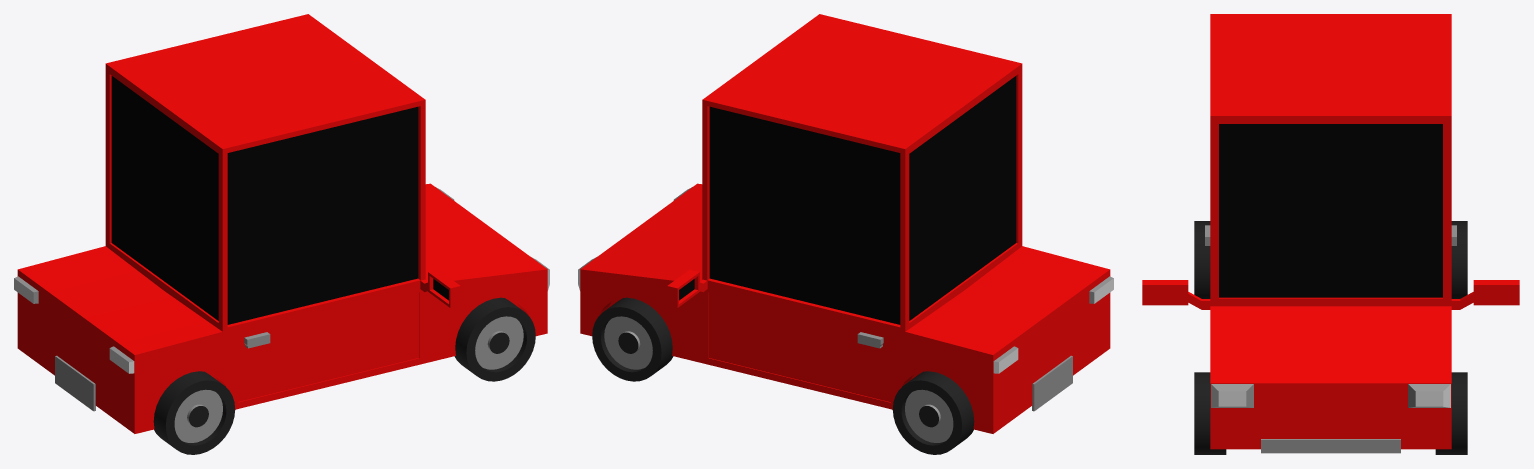
File: carsimplecubic1.fbx
3 renders of one model, left to right at view 1: azimuth 30°, elevation 25°; view 2: azimuth 150°, elevation 25°; view 3: azimuth 270°, elevation 25°, orthographic. The views are drawn at different scales.
Visible parts, largest first — view 1: carsimplecubic1; view 2: carsimplecubic1; view 3: carsimplecubic1.
Part boxes in pixels (x1=…): carsimplecubic1: x1=14, y1=14, x2=549, y2=454; carsimplecubic1: x1=578, y1=14, x2=1113, y2=454; carsimplecubic1: x1=1142, y1=14, x2=1519, y2=454.
Size of the model in its own units: 594 by 391 by 444.
